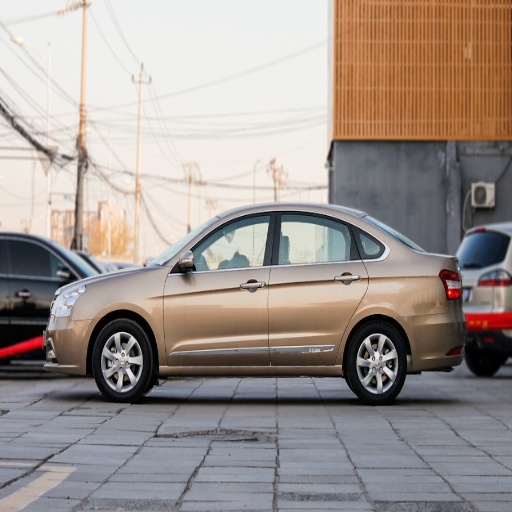back_left_door: (268, 210, 366, 363)
front_left_door: (163, 210, 274, 363)
